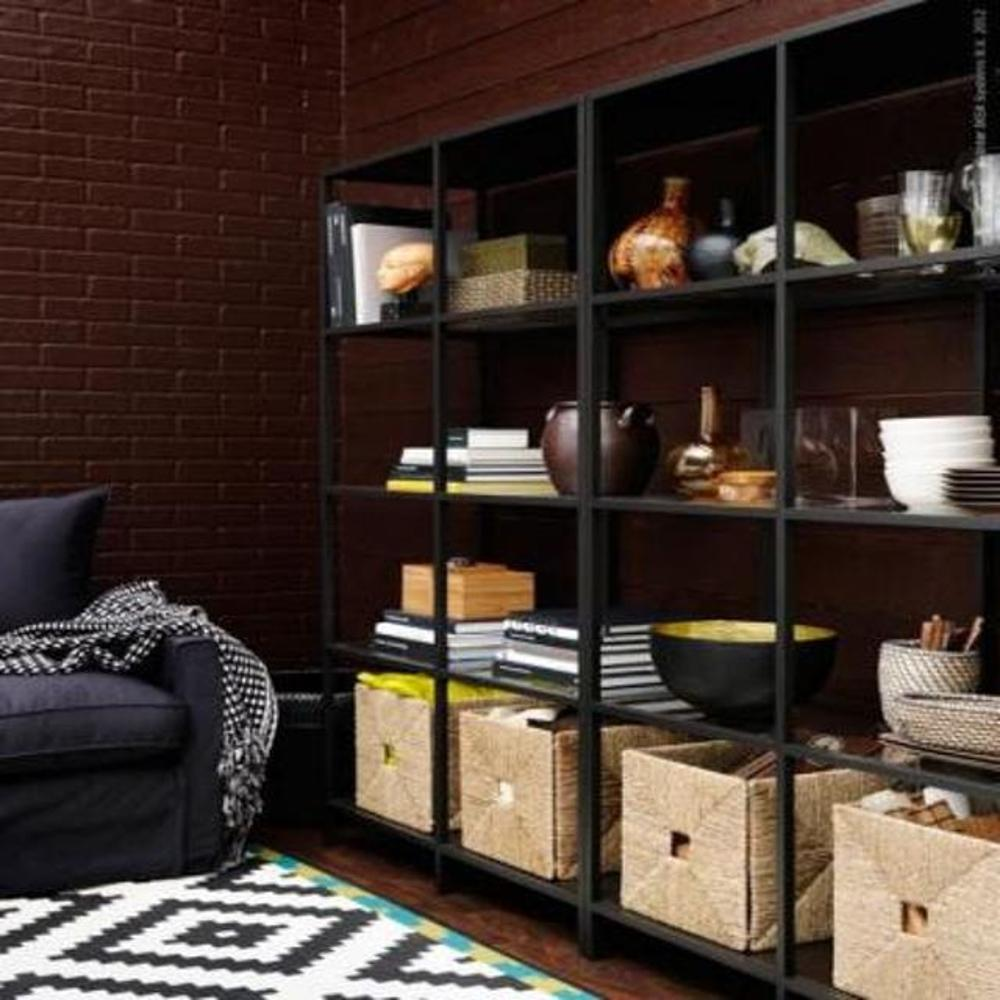lamp: (310, 0, 998, 998)
